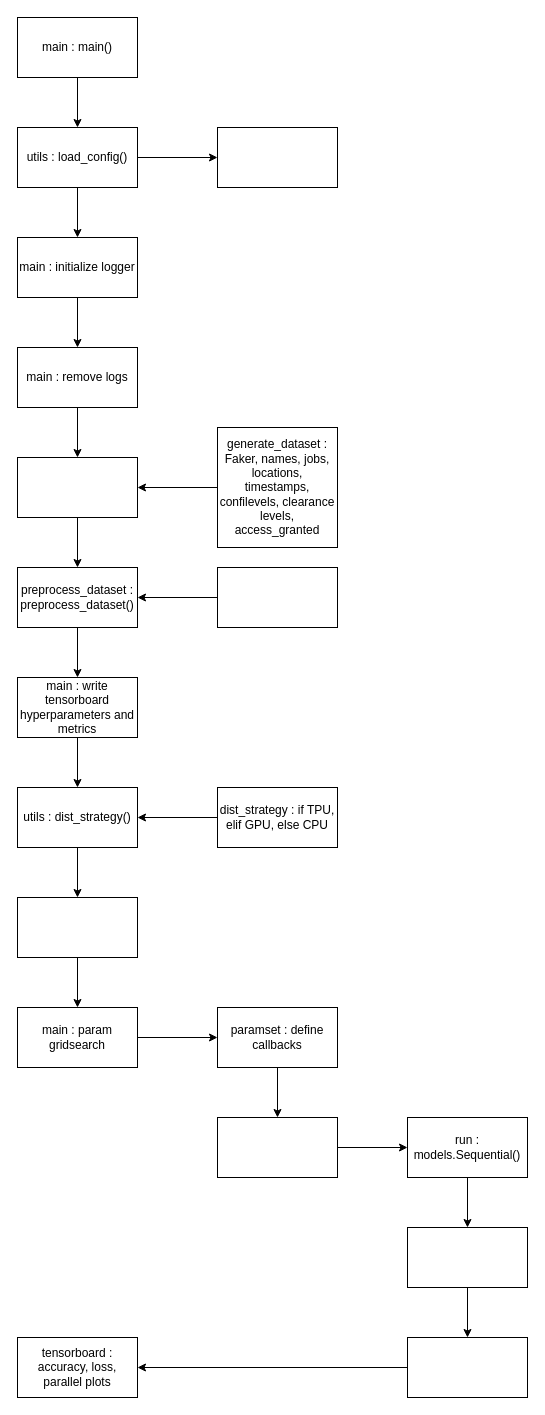
Some shapes in this 545 by 1415 pixel diagram are drawn without their labels. The centre of each missing label's shape, as x and y in pixels:
if data not exists : generate_dataset : generate_dataset(): point 77,487
load_config : parse paths and hparams: point 277,157
main : stratified shuffle split train test (one split): point 77,927
preprocess_dataset : import data, del cols, one hot encoding, split X,y: point 277,597
run : model.fit(): point 467,1367
run : train_test_model: point 277,1147
run : with dist_strategy : model.compile(): point 467,1257
